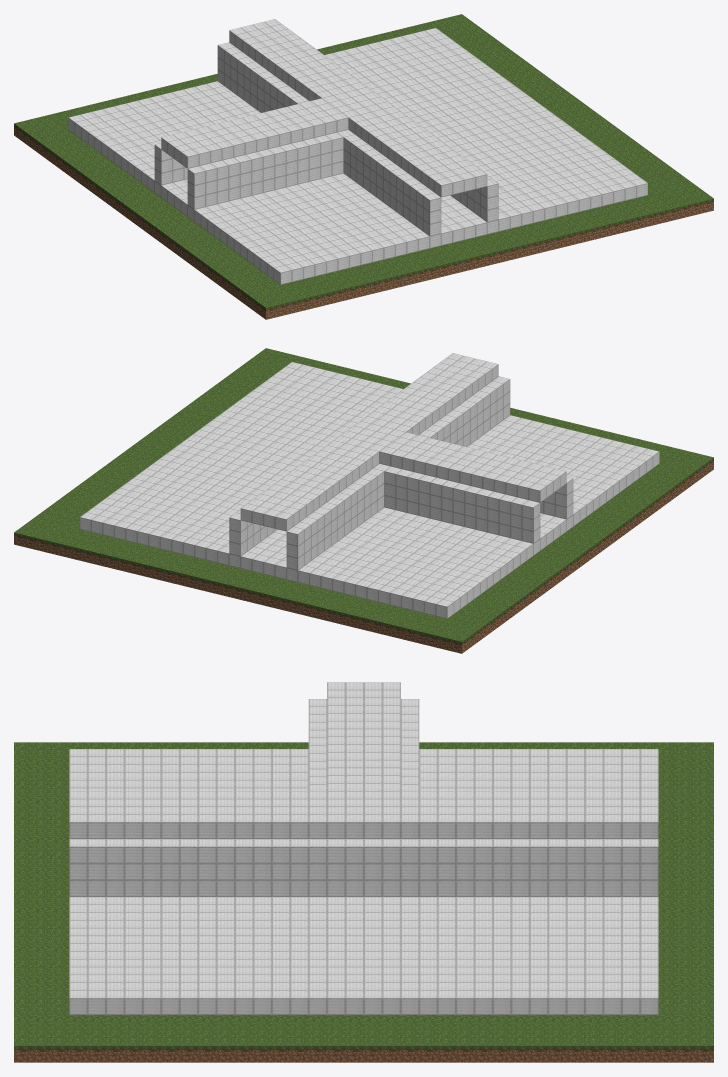
Rendered from branching-pathways-right-angle.obj.
The picture shows the model from 3 angles, top to bottom: view 1: azimuth 30°, elevation 25°; view 2: azimuth 150°, elevation 25°; view 3: azimuth 270°, elevation 25°; orthographic projection. The views are drawn at different scales.
Parts seen in each view (by area): view 1: Block_of_Iron, Grass_Block; view 2: Block_of_Iron, Grass_Block; view 3: Block_of_Iron, Grass_Block.
Part boxes in pixels (left/top/right/bottom): Block_of_Iron: left=68, top=19, right=647, bottom=284; Grass_Block: left=14, top=14, right=713, bottom=319; Block_of_Iron: left=80, top=353, right=659, bottom=618; Grass_Block: left=14, top=348, right=713, bottom=653; Block_of_Iron: left=69, top=682, right=658, bottom=1014; Grass_Block: left=14, top=742, right=713, bottom=1062.
Size of the model in its own units: 39 by 6 by 38.
3 materials, 3 textured.
